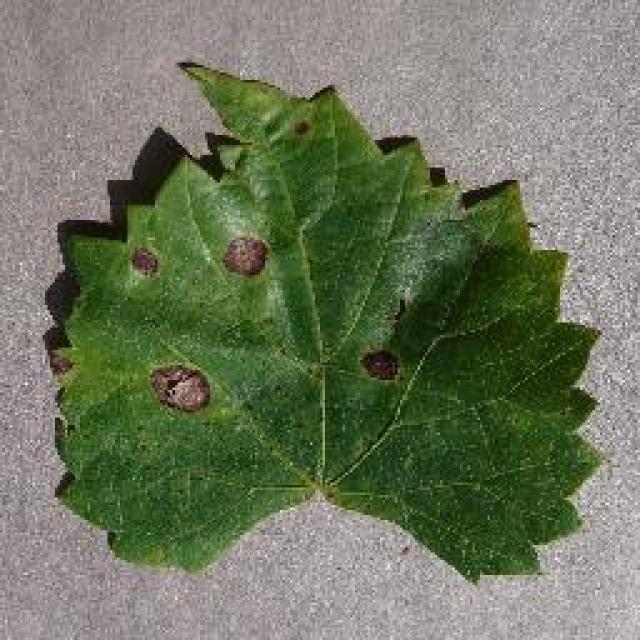Grape___Black_rot: (45, 63, 608, 592)
